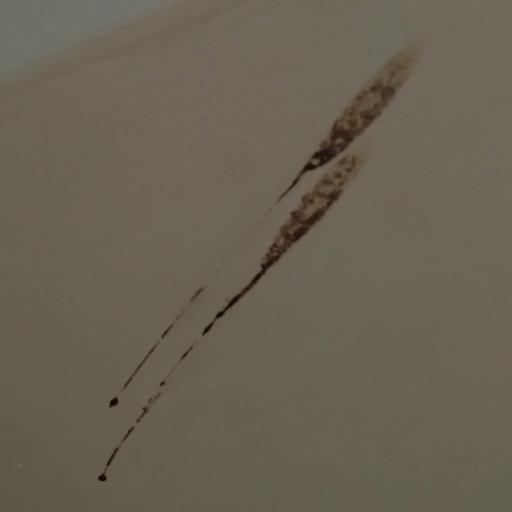stain: (212, 36, 429, 369), (96, 278, 206, 486)
